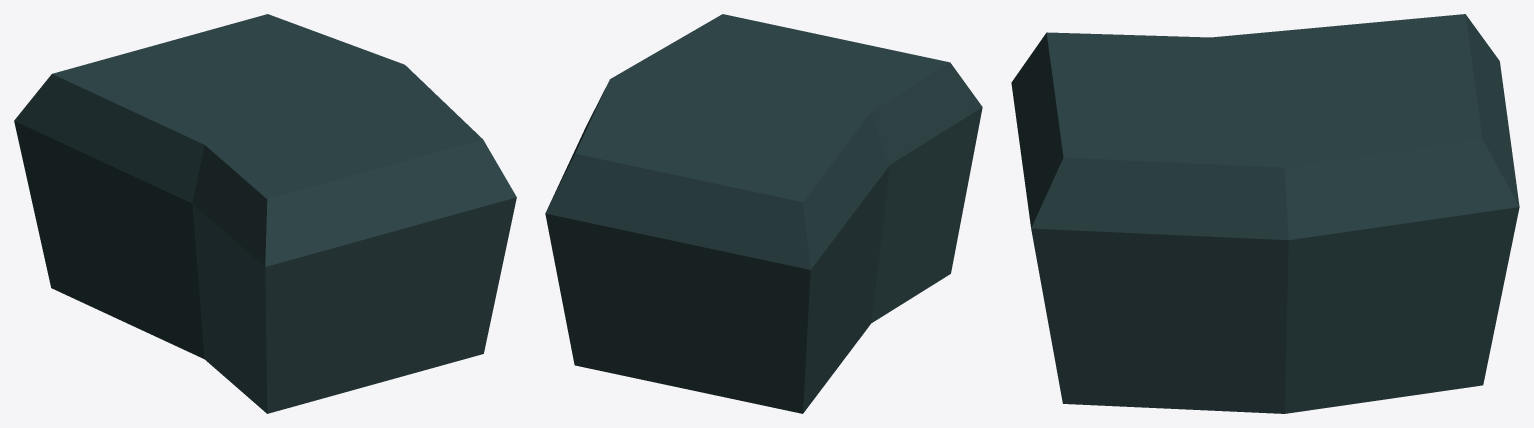
File: lp_Rock_Type6_04_mesh_001_Plane_030.obj
3 renders of one model, left to right at view 1: azimuth 30°, elevation 25°; view 2: azimuth 150°, elevation 25°; view 3: azimuth 270°, elevation 25°, orthographic. The views are drawn at different scales.
Parts seen in each view (by area): view 1: lp_Rock_Type6_04_mesh_001_Plane_030; view 2: lp_Rock_Type6_04_mesh_001_Plane_030; view 3: lp_Rock_Type6_04_mesh_001_Plane_030.
Boxes of the visible parts, box(x1,y1,x2,y2) form: lp_Rock_Type6_04_mesh_001_Plane_030: box(14, 14, 516, 413); lp_Rock_Type6_04_mesh_001_Plane_030: box(545, 14, 982, 413); lp_Rock_Type6_04_mesh_001_Plane_030: box(1011, 14, 1519, 413).
Size of the model in its own units: 1.66 by 1.06 by 1.99.
